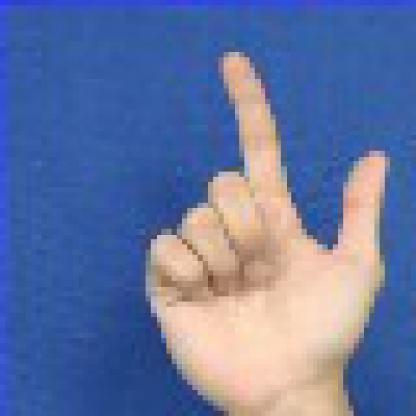seven: (110, 29, 407, 416)
